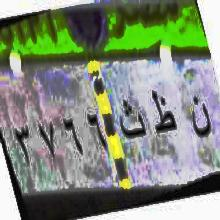3: (14, 120, 32, 180)
6: (84, 106, 108, 156), (64, 110, 82, 168)
7: (37, 112, 57, 164)
Thaa: (150, 86, 178, 147)
noon: (189, 92, 212, 149)
thaa: (119, 96, 146, 149)
